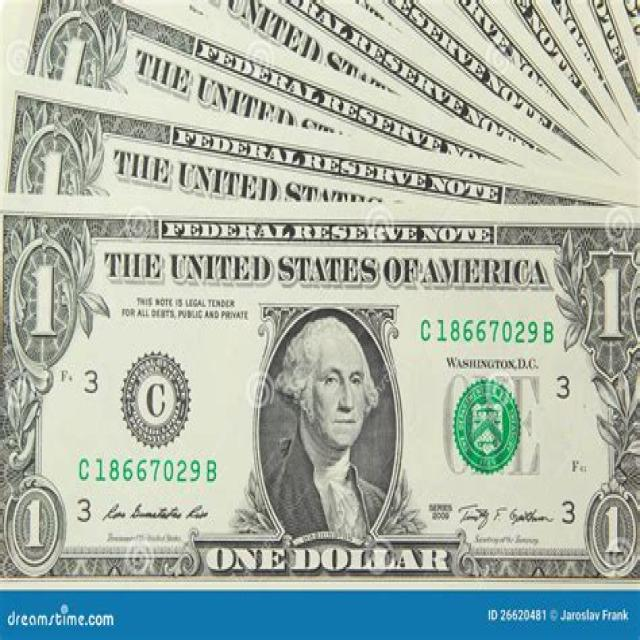One: (0, 195, 640, 588)
